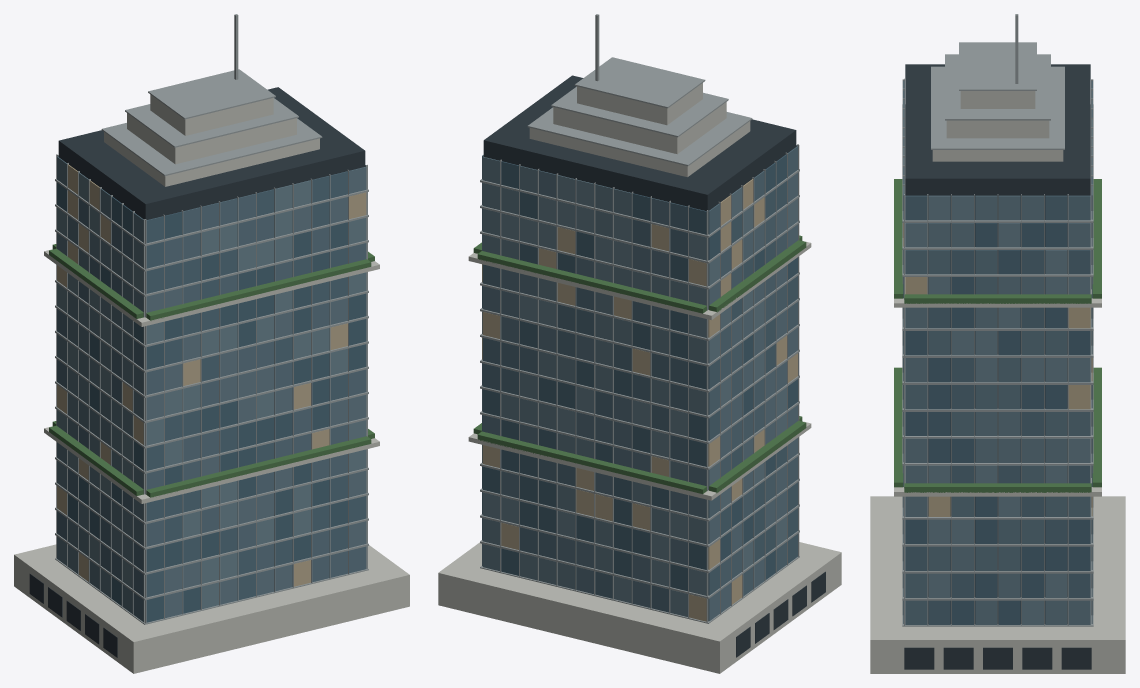
The model's file is skyline_2.glb.
3 renders of one model, left to right at view 1: azimuth 30°, elevation 25°; view 2: azimuth 150°, elevation 25°; view 3: azimuth 270°, elevation 25°, orthographic. The views are drawn at different scales.
Parts seen in each view (by area): view 1: champagne_aluminium, warm_mineral_stone, glass_2, glass_1, glass_3, glass_0, glass_4, shadow_recess, roof_garden, interior_shade; view 2: champagne_aluminium, warm_mineral_stone, glass_3, glass_0, glass_2, glass_4, glass_1, shadow_recess, interior_shade, roof_garden; view 3: champagne_aluminium, warm_mineral_stone, shadow_recess, glass_0, glass_2, glass_3, glass_4, glass_1, roof_garden, interior_shade.
Part boxes in pixels (<box>): champagne_aluminium: <box>55,14,368,624</box>; warm_mineral_stone: <box>14,94,409,673</box>; glass_2: <box>57,156,366,613</box>; glass_1: <box>57,165,366,621</box>; glass_3: <box>57,167,366,618</box>; glass_0: <box>57,155,366,622</box>; glass_4: <box>57,172,366,608</box>; shadow_recess: <box>29,87,365,657</box>; roof_garden: <box>49,244,374,497</box>; interior_shade: <box>57,164,366,586</box>; champagne_aluminium: <box>480,14,799,623</box>; warm_mineral_stone: <box>438,83,841,673</box>; glass_3: <box>482,156,797,621</box>; glass_0: <box>482,154,797,591</box>; glass_2: <box>482,146,797,607</box>; glass_4: <box>482,175,797,616</box>; glass_1: <box>482,145,797,612</box>; shadow_recess: <box>483,75,825,657</box>; interior_shade: <box>482,179,797,621</box>; roof_garden: <box>473,235,806,493</box>; champagne_aluminium: <box>902,14,1093,626</box>; warm_mineral_stone: <box>870,91,1125,673</box>; shadow_recess: <box>904,64,1091,669</box>; glass_0: <box>903,81,1092,624</box>; glass_2: <box>903,100,1092,624</box>; glass_3: <box>903,119,1092,624</box>; glass_4: <box>903,138,1092,624</box>; glass_1: <box>903,81,1092,624</box>; roof_garden: <box>894,179,1101,492</box>; interior_shade: <box>903,223,1092,516</box>.
Size of the model in its own units: 40.1 by 78.5 by 30.
